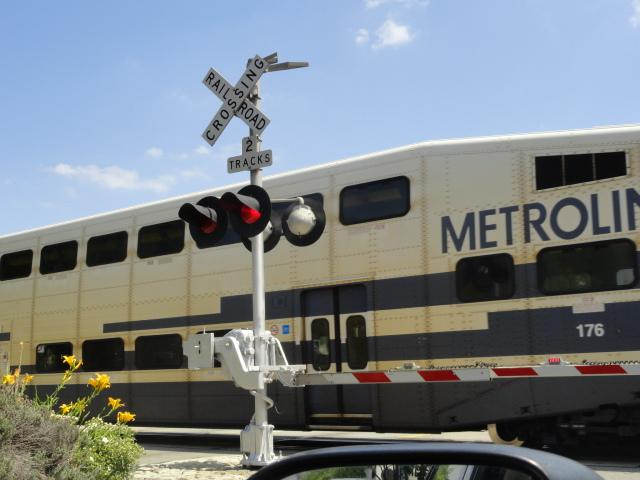Train: (3, 126, 638, 433)
